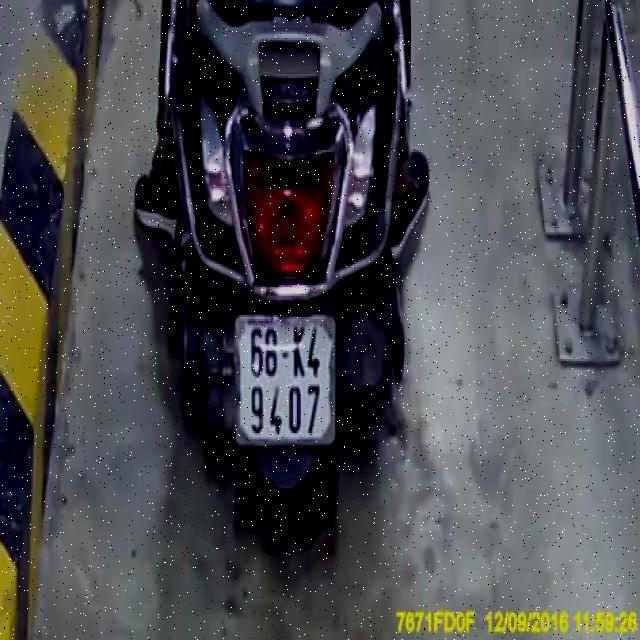0: (288, 382, 304, 436)
4: (264, 382, 286, 438), (307, 327, 322, 380)
6: (250, 327, 264, 378)
7: (306, 384, 324, 440)
8: (263, 329, 281, 378)
9: (250, 383, 265, 436)
K: (290, 324, 307, 384)
